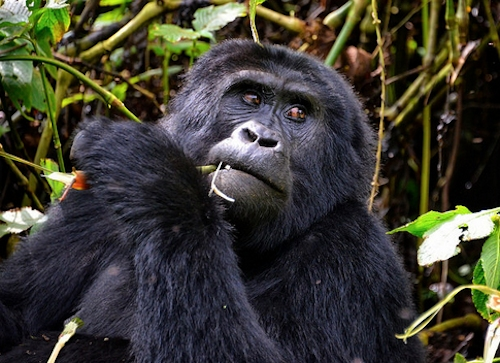Goriila: (27, 33, 435, 362)
